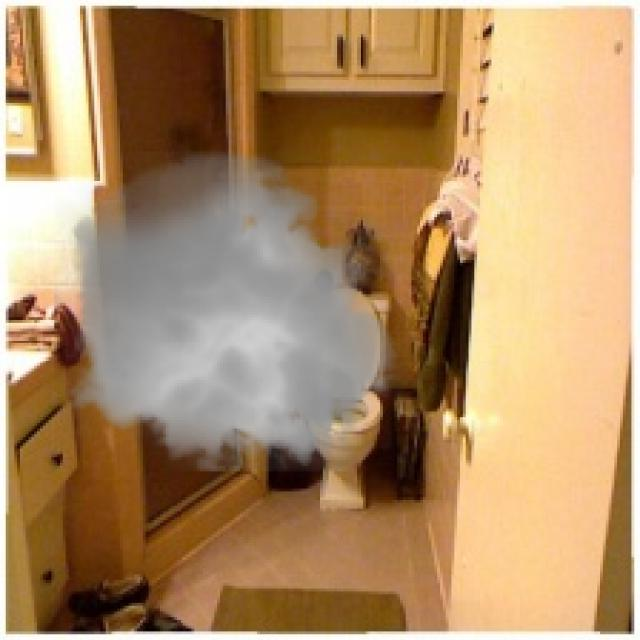smoke: (54, 140, 409, 486)
